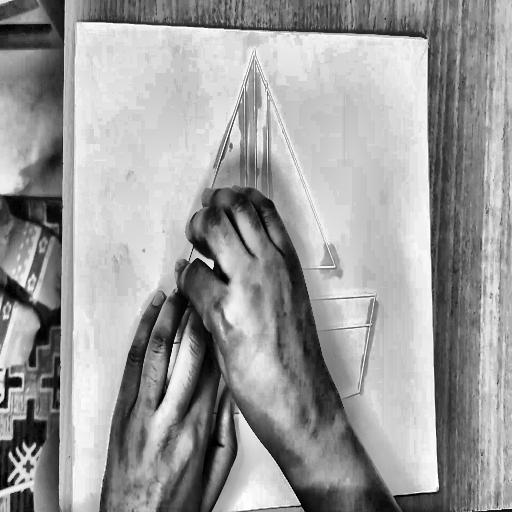boat: (138, 41, 383, 423)
bottom_right: (434, 483, 443, 497)
top_left: (74, 17, 81, 30)
top_right: (422, 32, 432, 49)
